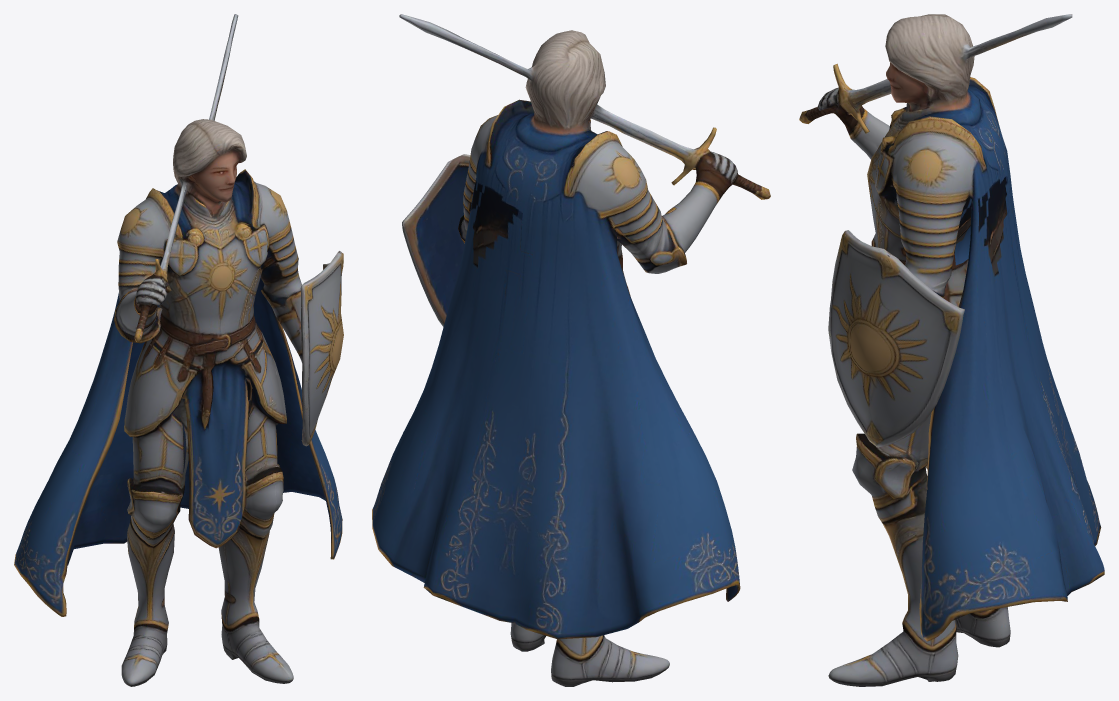
The model's file is Paladino.glb.
The picture shows the model from 3 angles, left to right: view 1: azimuth 30°, elevation 25°; view 2: azimuth 150°, elevation 25°; view 3: azimuth 270°, elevation 25°; orthographic projection. The views are drawn at different scales.
Parts seen in each view (by area): view 1: tripo_node_d6727201-7a1c-43ee-98ed-1d722c640042; view 2: tripo_node_d6727201-7a1c-43ee-98ed-1d722c640042; view 3: tripo_node_d6727201-7a1c-43ee-98ed-1d722c640042.
Part boxes in pixels (x1,y1,x2,y2): tripo_node_d6727201-7a1c-43ee-98ed-1d722c640042: (14, 14, 343, 686); tripo_node_d6727201-7a1c-43ee-98ed-1d722c640042: (372, 14, 770, 686); tripo_node_d6727201-7a1c-43ee-98ed-1d722c640042: (799, 14, 1104, 686).
Bounding box in the file's own units: 0.5543 × 0.9929 × 0.3942.
Materials: 1 (1 with a texture image).
